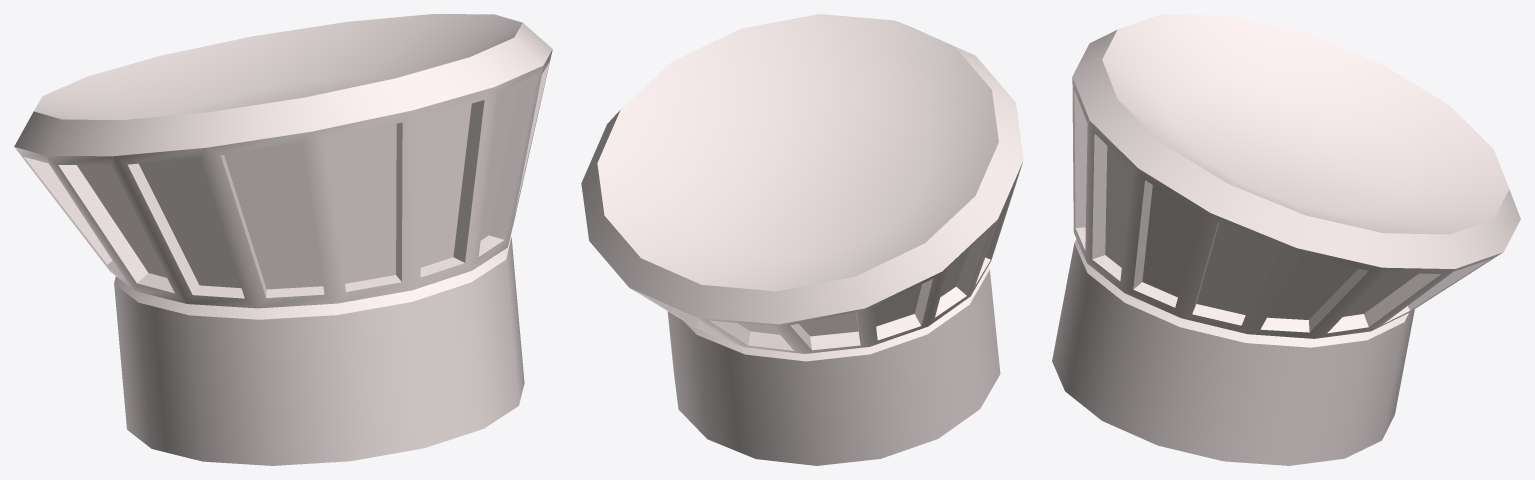
Rendered from ChefHat.fbx.
The picture shows the model from 3 angles, left to right: view 1: azimuth 30°, elevation 25°; view 2: azimuth 150°, elevation 25°; view 3: azimuth 270°, elevation 25°; orthographic projection. The views are drawn at different scales.
Parts seen in each view (by area): view 1: Chef Hat; view 2: Chef Hat; view 3: Chef Hat.
Boxes of the visible parts, x1,y1,x2,y2 form: Chef Hat: (14, 14, 552, 465); Chef Hat: (581, 14, 1023, 465); Chef Hat: (1052, 14, 1520, 465).
Bounding box in the file's own units: 131 × 108 × 129.
